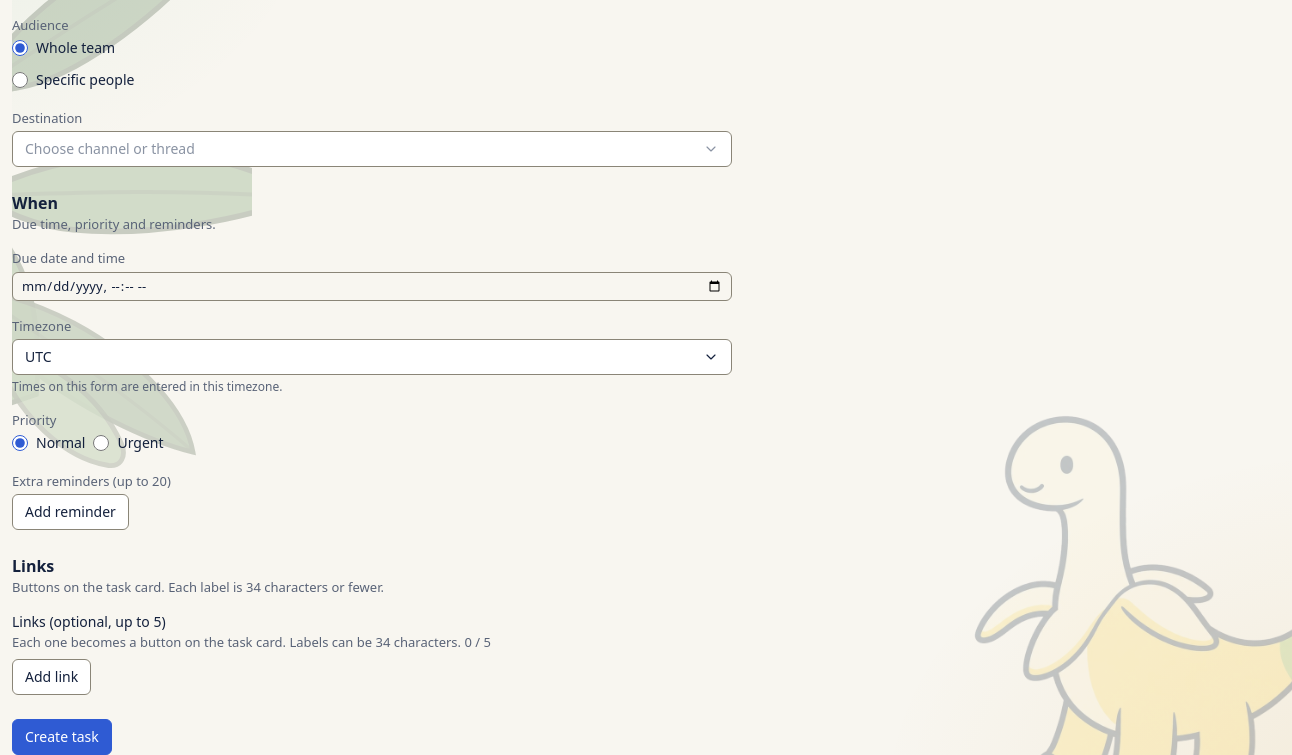
it: task creation › shows the link count and keeps it at five
(page scrolled)
Expected: the text with test id "link-count" reads "0 / 5", [464,633,491,651]
Click the button "Add link".
click(52, 677)  # box [12,659,91,695]
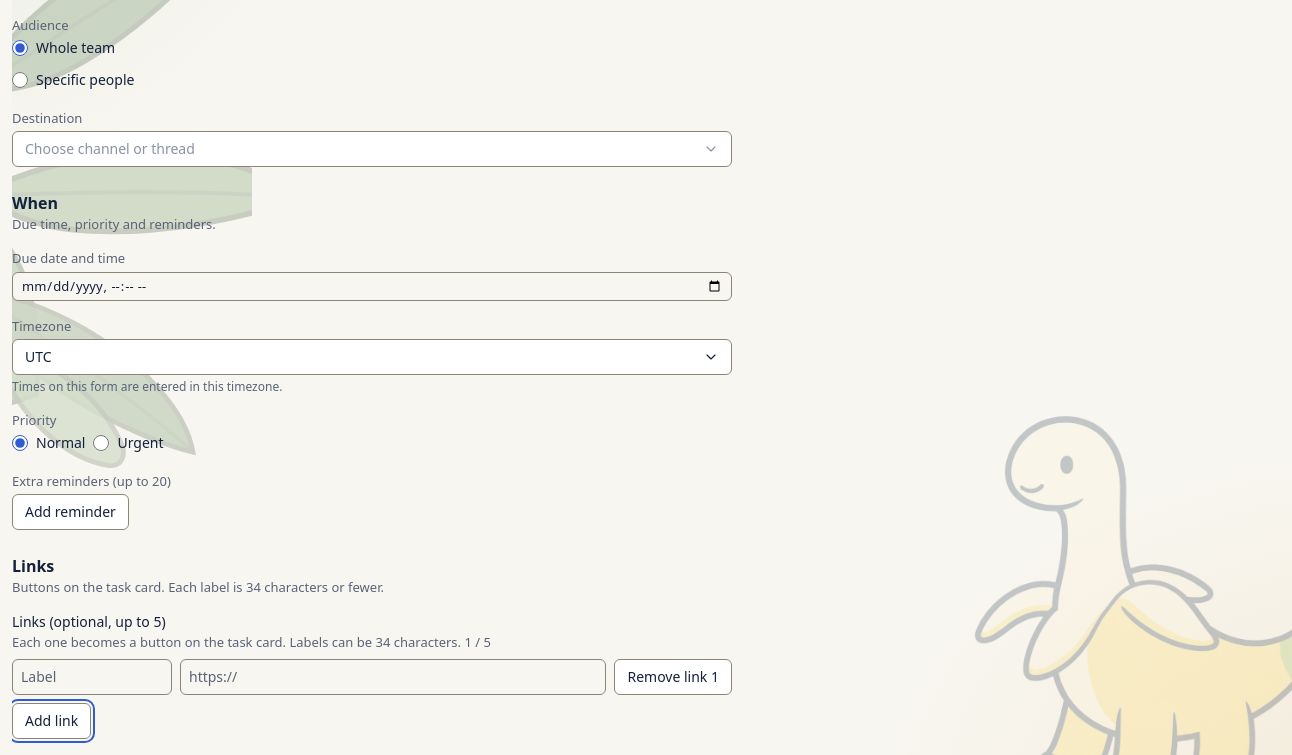
Click the button "Add link".
click(52, 721)  # box [12,703,91,739]
(page scrolled)
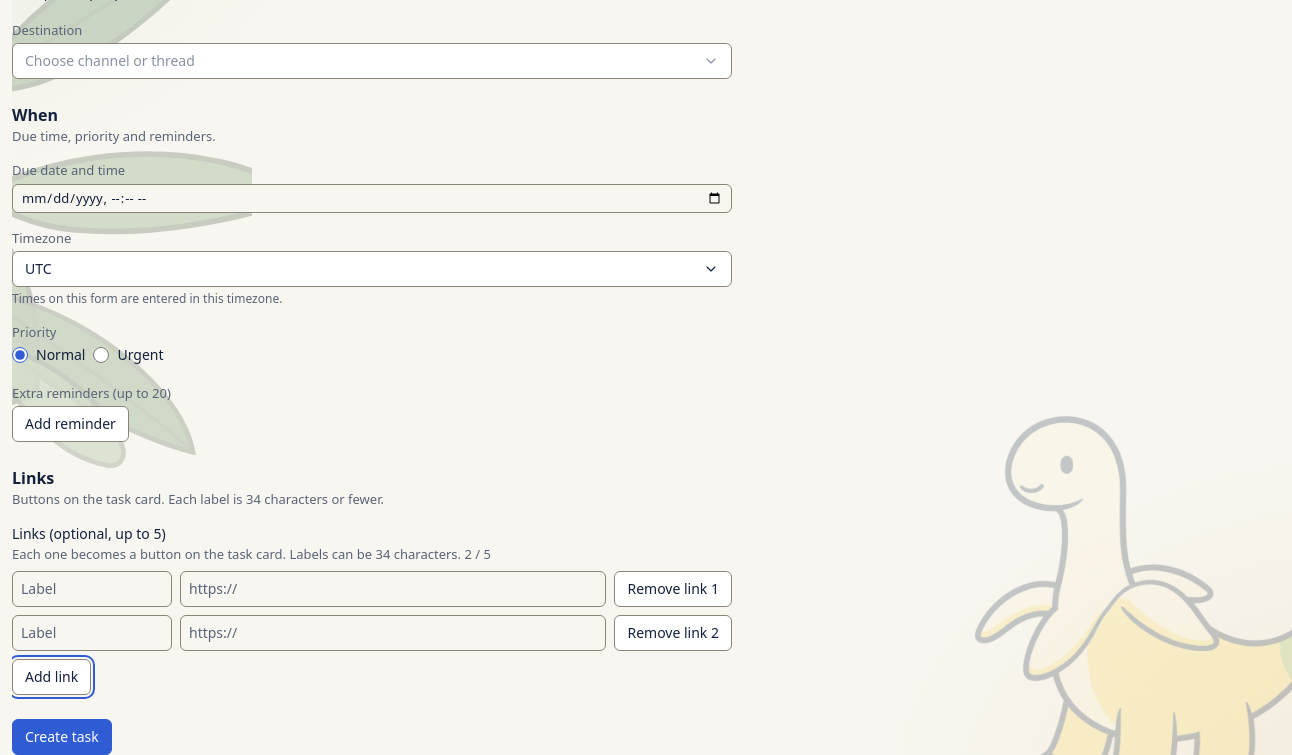
Click the button "Add link".
click(52, 677)  # box [12,659,91,695]
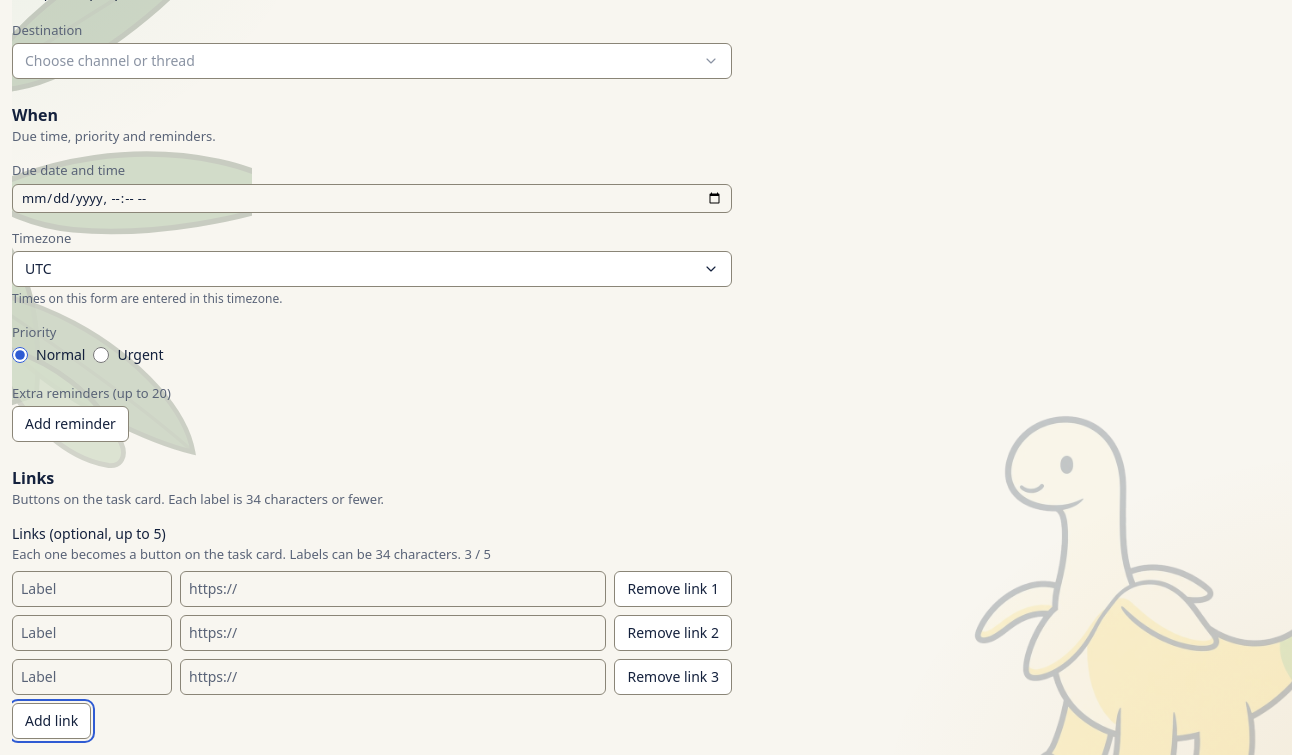
Click the button "Add link".
click(52, 721)  # box [12,703,91,739]
(page scrolled)
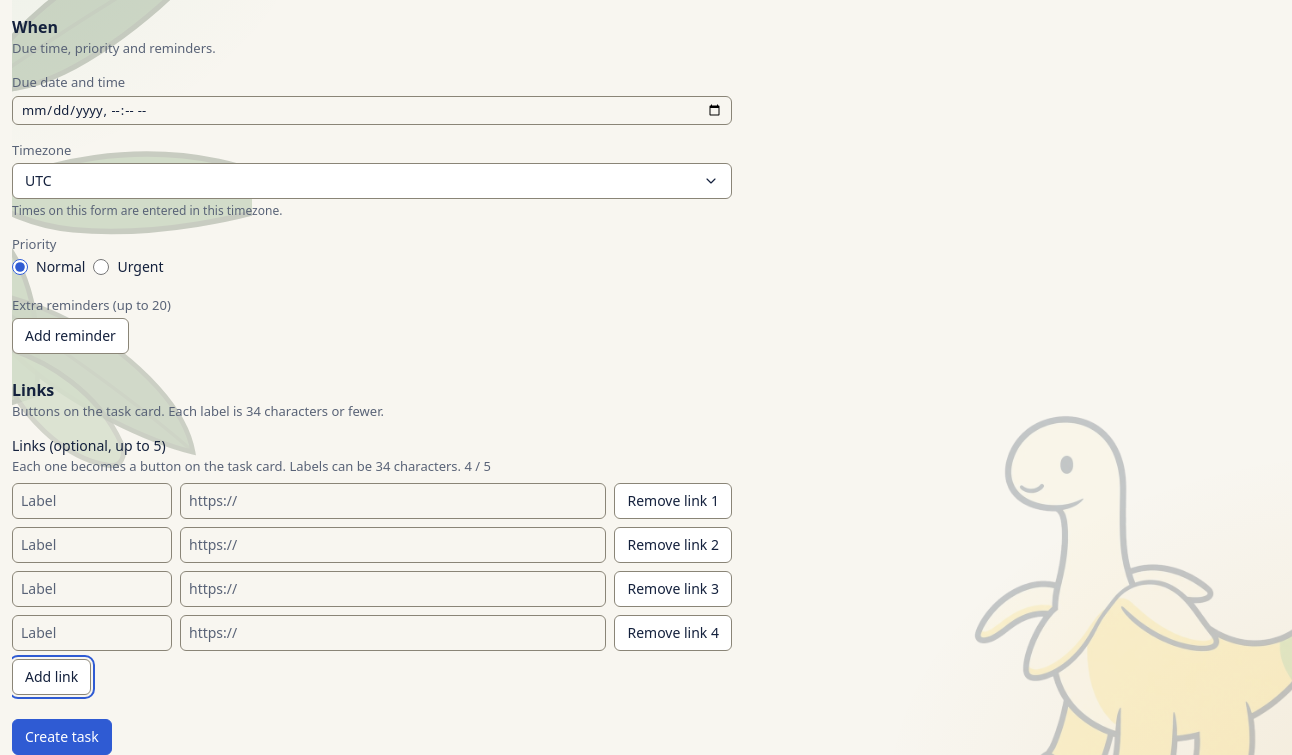
Click the button "Add link".
click(52, 677)  # box [12,659,91,695]
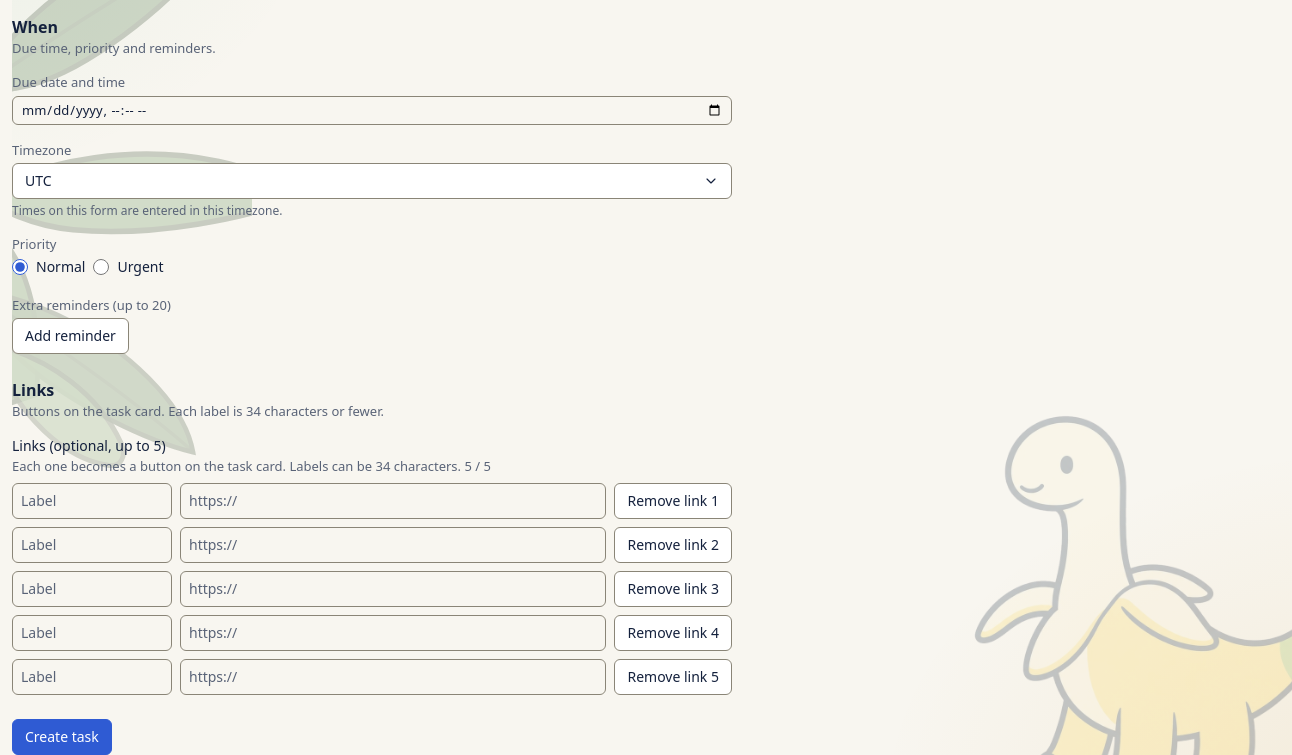
Expected: the text with test id "link-count" reads "5 / 5", [464,457,491,475]
Expected: the button "Add link" is gone
